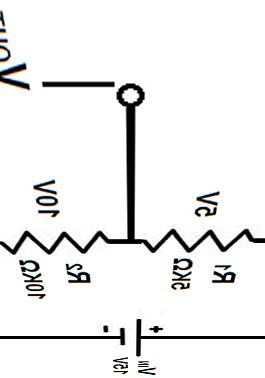resistor: (146, 210, 257, 256), (0, 223, 113, 257)
